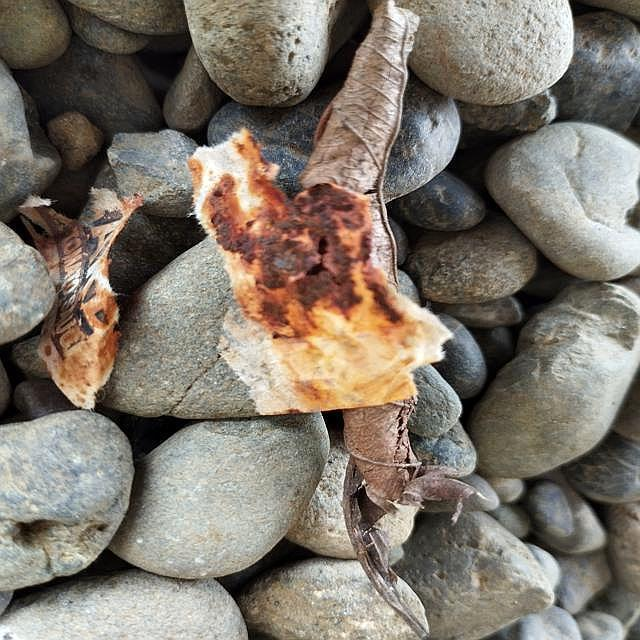Biodegradable: (169, 96, 458, 422), (50, 197, 118, 409)
